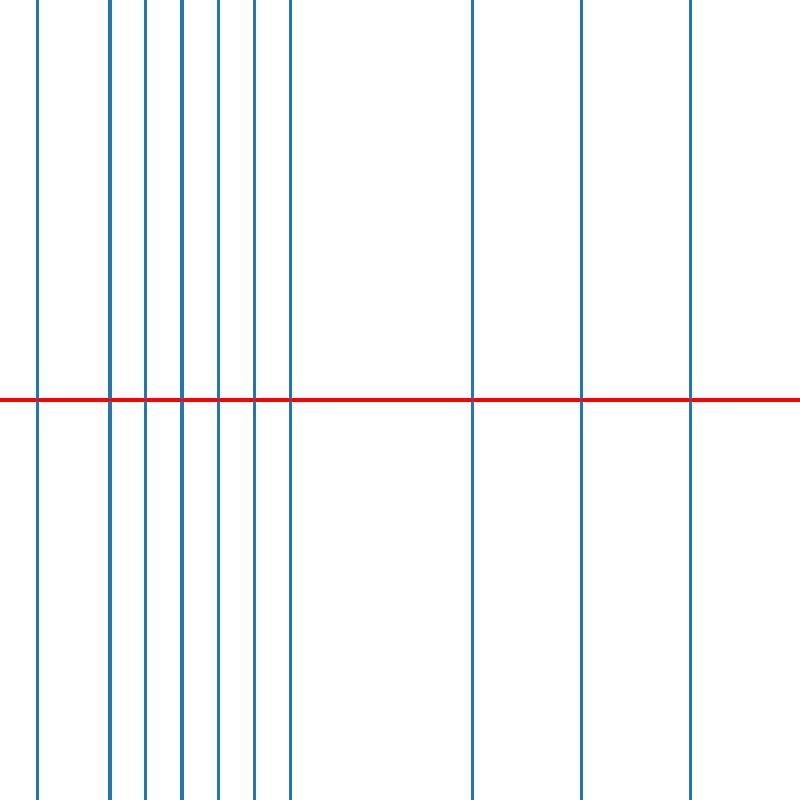root: (250, 396, 258, 404), (32, 396, 40, 404), (141, 396, 149, 404), (578, 396, 585, 404), (287, 396, 294, 404), (214, 396, 221, 404), (178, 396, 185, 404), (687, 396, 694, 404), (105, 396, 112, 404), (469, 396, 476, 404)
